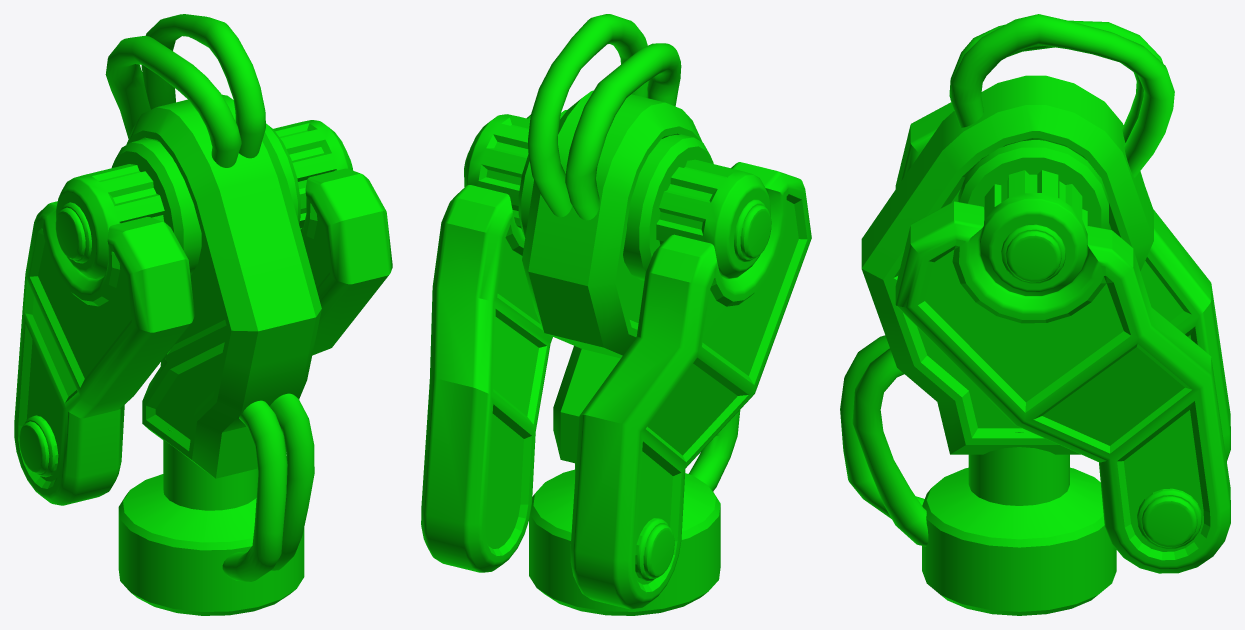
The model's file is Embout_Marteau.fbx.
3 renders of one model, left to right at view 1: azimuth 30°, elevation 25°; view 2: azimuth 150°, elevation 25°; view 3: azimuth 270°, elevation 25°, orthographic. The views are drawn at different scales.
Visible parts, largest first — view 1: Marteau; view 2: Marteau; view 3: Marteau.
Boxes of the visible parts, bbox=[...] form: Marteau: bbox=[14, 14, 392, 615]; Marteau: bbox=[421, 14, 811, 615]; Marteau: bbox=[840, 14, 1230, 615].
Size of the model in its own units: 312 by 592 by 367.
